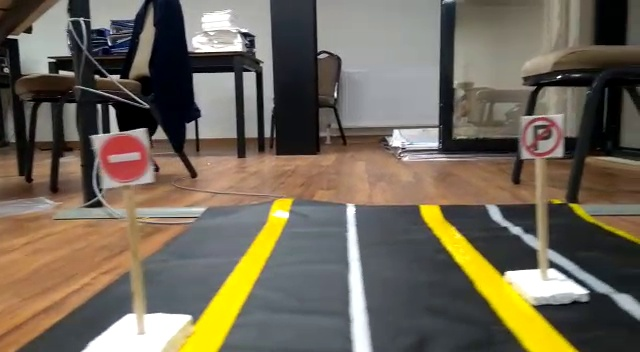girisi_olmayan_yol: (95, 133, 153, 184)
park_yapilmaz: (517, 112, 565, 156)
